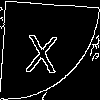X: (25, 25, 60, 74)
